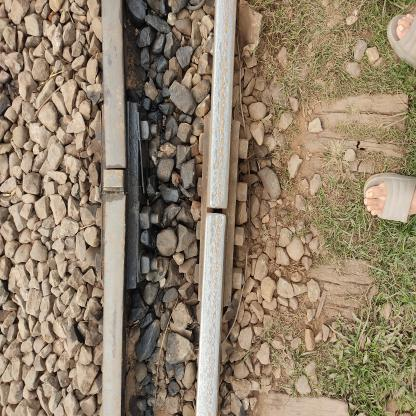Non Defective 2: (197, 198, 236, 239)
